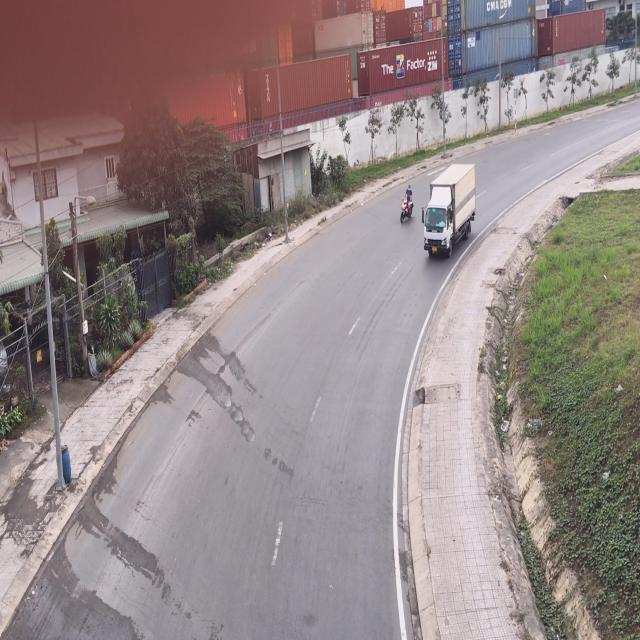motorbike: (399, 184, 414, 224)
truck: (420, 163, 473, 259)
